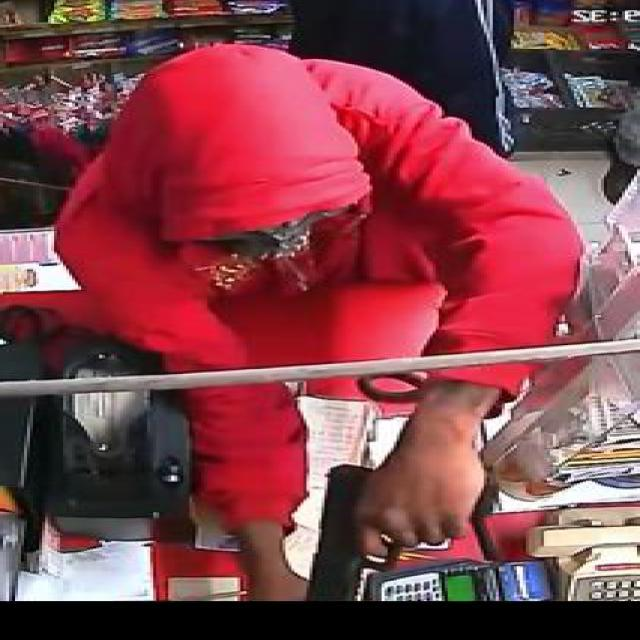Gun: (310, 461, 504, 602)
